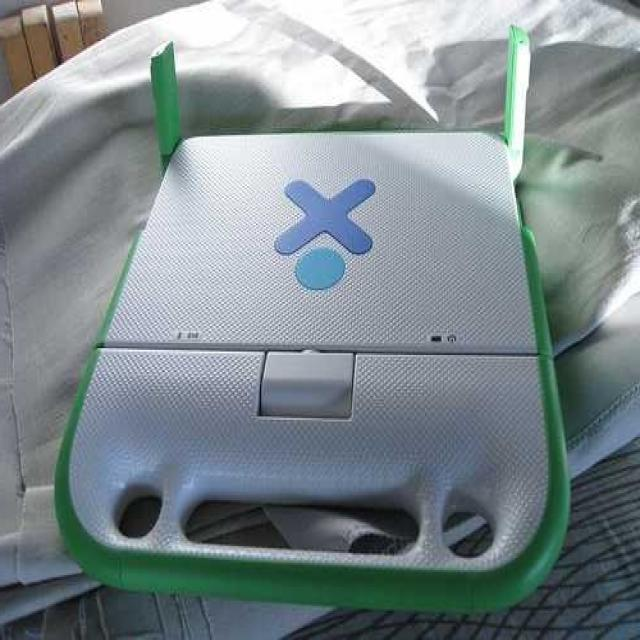laptop: (88, 120, 524, 584)
